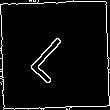L_NE: (26, 26, 84, 84)
